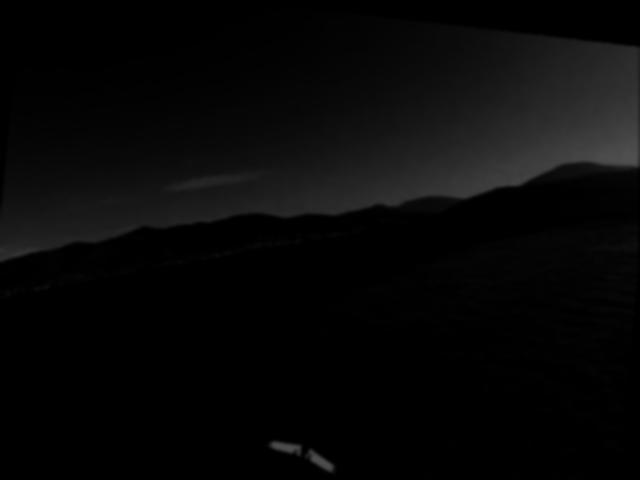hedef: (258, 421, 347, 480)
